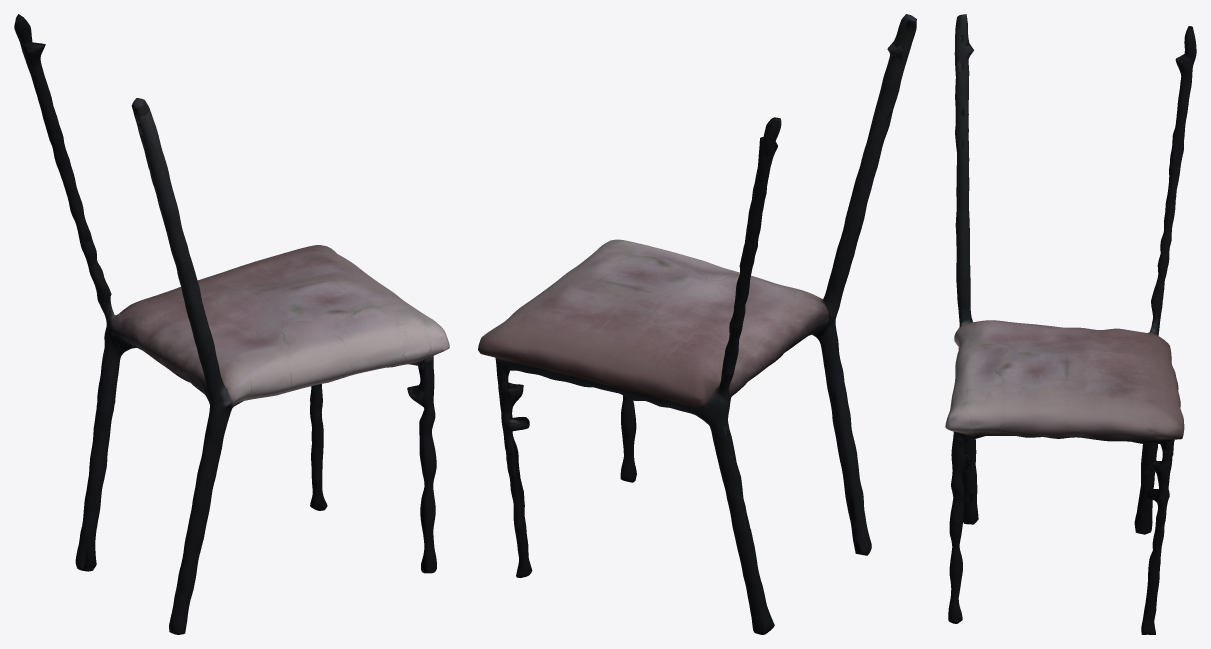
The picture shows the model from 3 angles, left to right: view 1: azimuth 30°, elevation 25°; view 2: azimuth 150°, elevation 25°; view 3: azimuth 270°, elevation 25°; orthographic projection. The views are drawn at different scales.
Bounding box in the file's own units: 0.7214 × 1.2 × 0.5498.
1 material, 1 textured.
